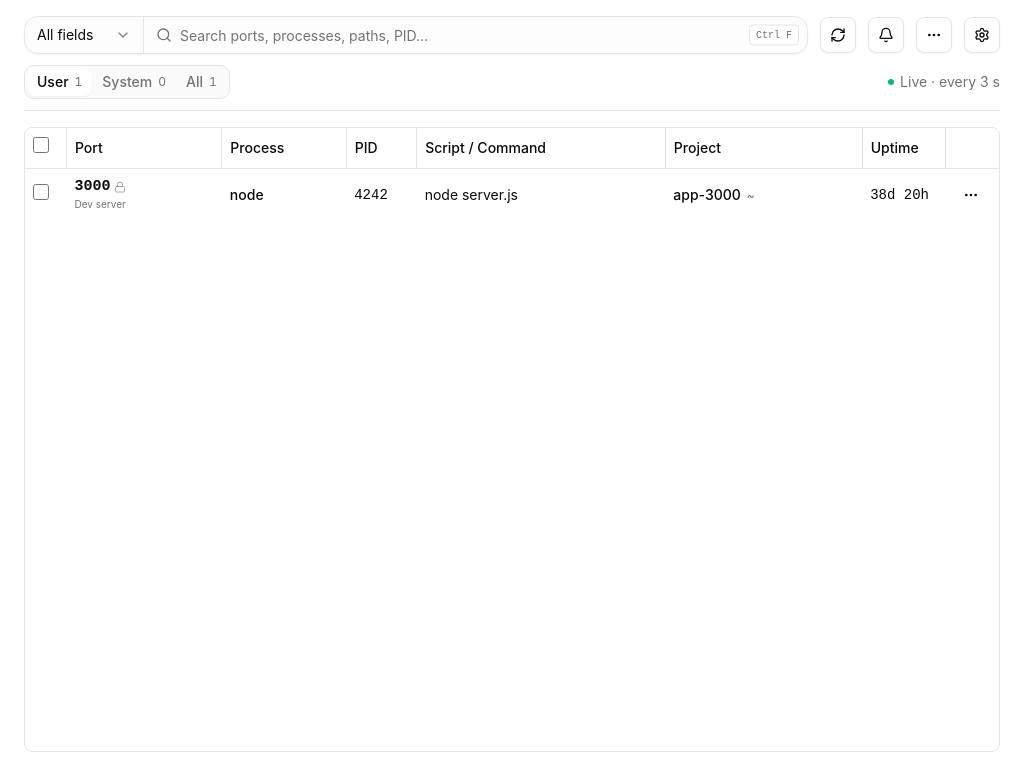
it: while a menu or a dialog is open › closes a delete dialog whose process is no longer listed
Step 1. Click the button named "Actions for node" → click(971, 194), box [953,176,989,212]
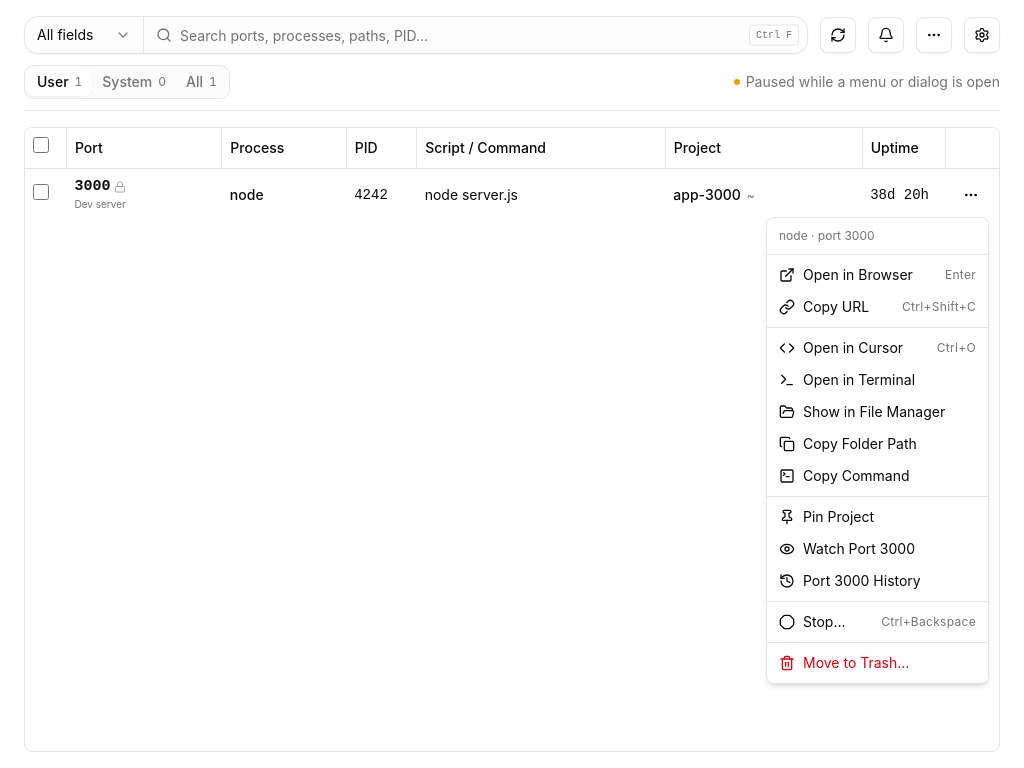
Step 2. Click the menu item "Move to Trash…" → click(844, 662), box [779,654,909,671]
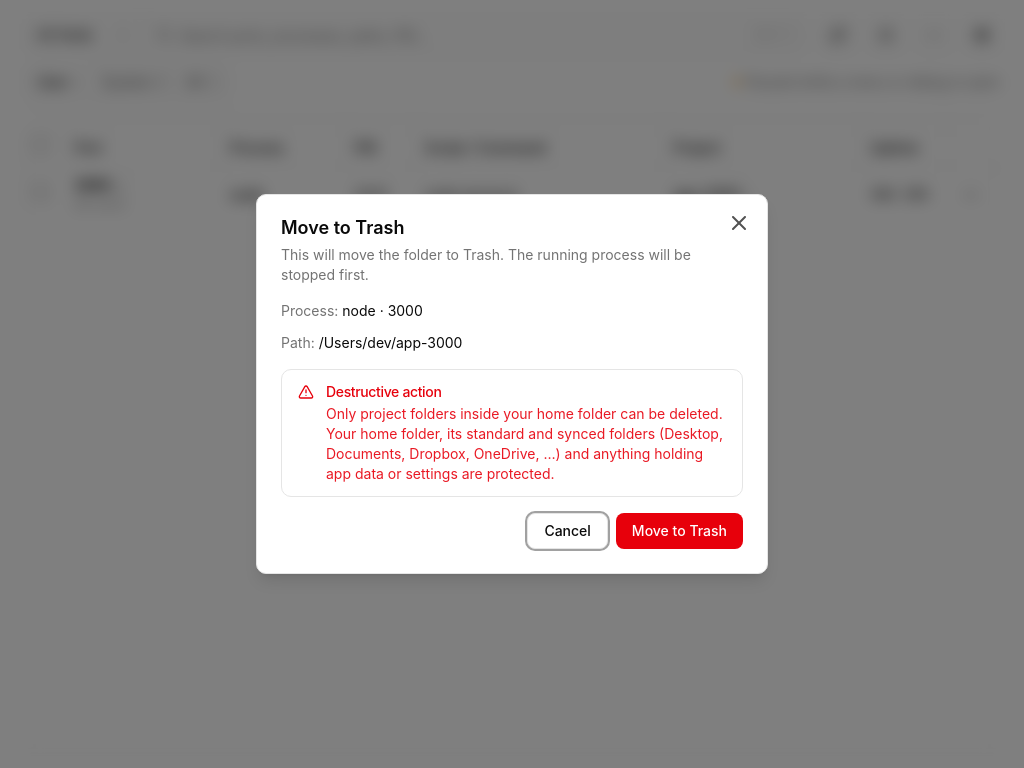
Step 3. Click the button "Move to Trash" → click(679, 531), box [616,513,743,549]
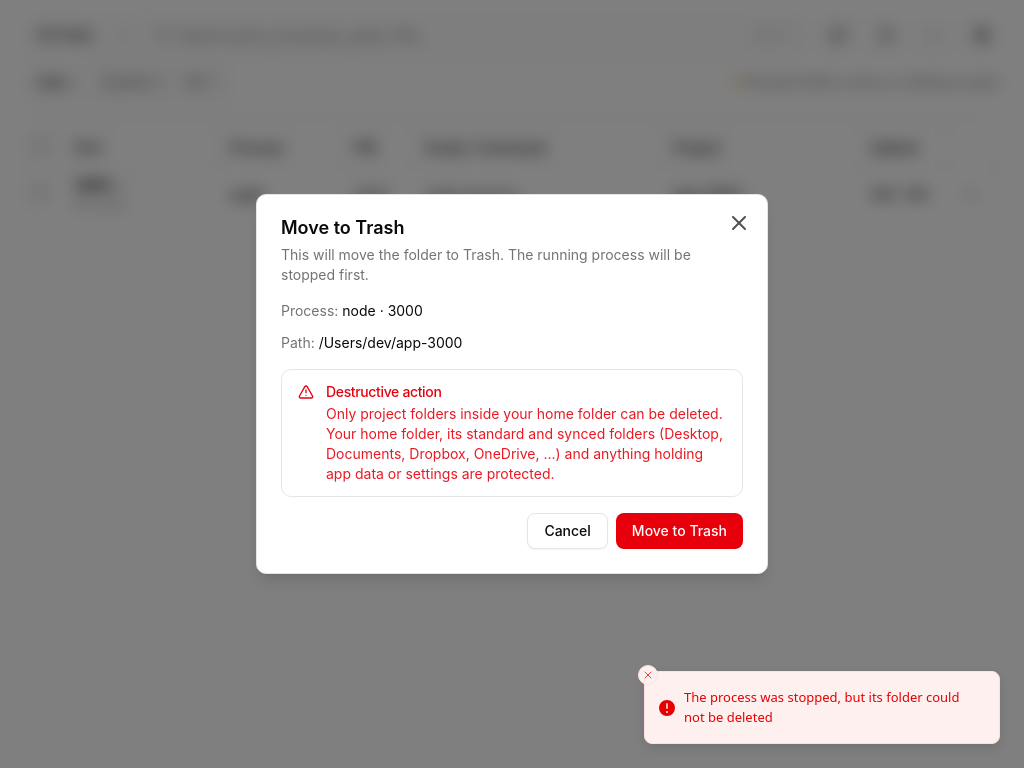
Check: the text "The process was stopped, but its folder could not be deleted" is shown, box [684,688,983,727]
